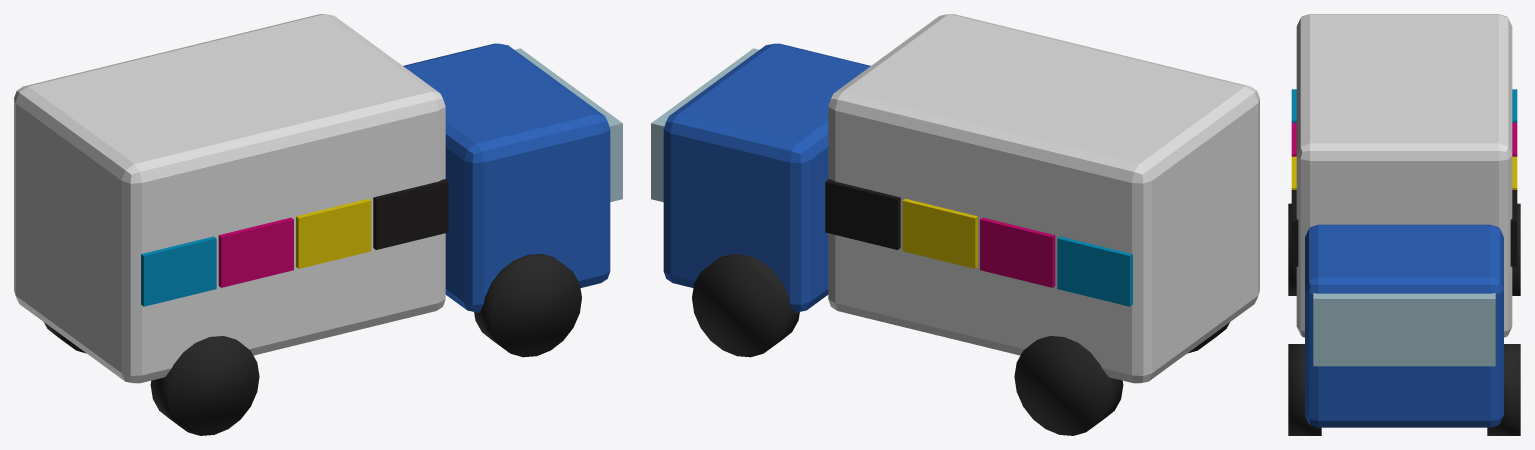
File: car_truck.glb
3 renders of one model, left to right at view 1: azimuth 30°, elevation 25°; view 2: azimuth 150°, elevation 25°; view 3: azimuth 270°, elevation 25°, orthographic. The views are drawn at different scales.
Visible parts, largest first — view 1: car_truck; view 2: car_truck; view 3: car_truck.
Boxes of the visible parts, x1,y1,x2,y2 form: car_truck: (14, 14, 622, 435); car_truck: (651, 14, 1259, 435); car_truck: (1288, 14, 1520, 435).
Bounding box in the file's own units: 0.312 × 0.165 × 0.14.
